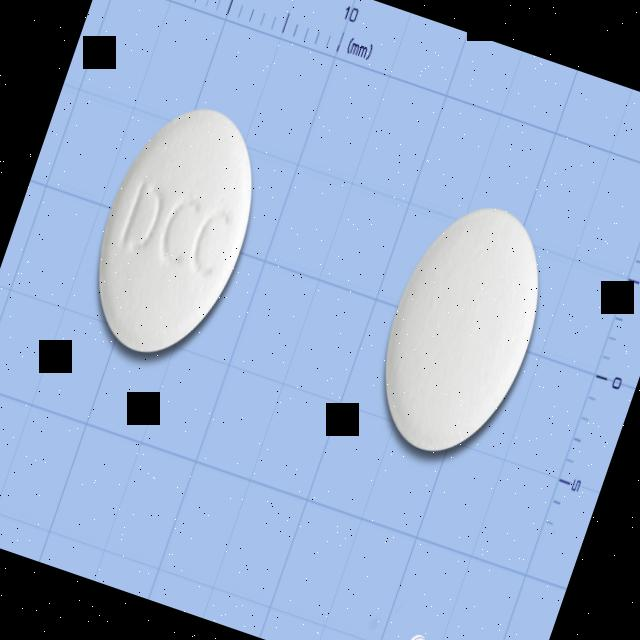Ciproxin -250mg: (65, 83, 288, 380)
